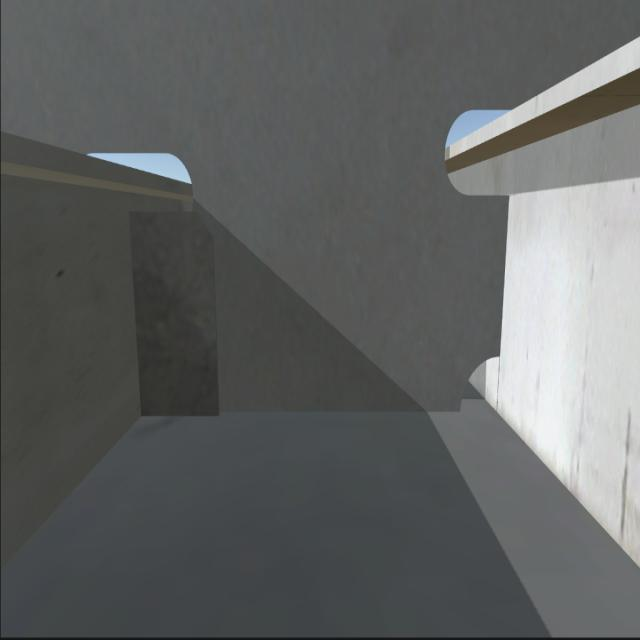fillet_hole: (451, 349, 502, 413)
fillet_yong_jeop_jang: (131, 404, 459, 420)
longi_yong_jeop_jang: (126, 216, 146, 410), (499, 199, 508, 347)
plate_CP03: (129, 213, 215, 415)
